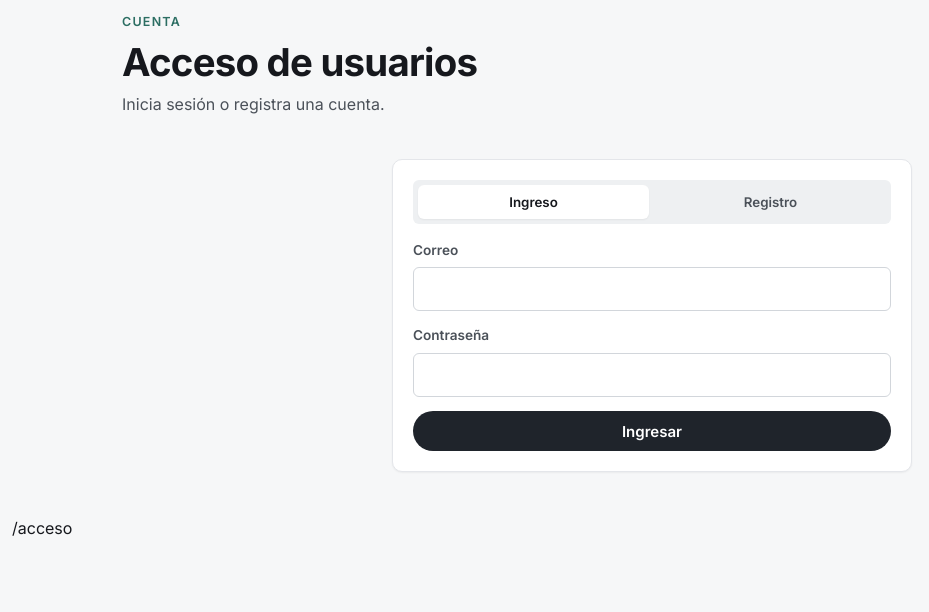
Test case: AuthPage › muestra error cuando el ingreso no retorna token
Type "admin@sanosysalvos.cl" into the field labelled "Correo".
click(652, 289); type("admin@sanosysalvos.cl")  # box [413,267,891,311]
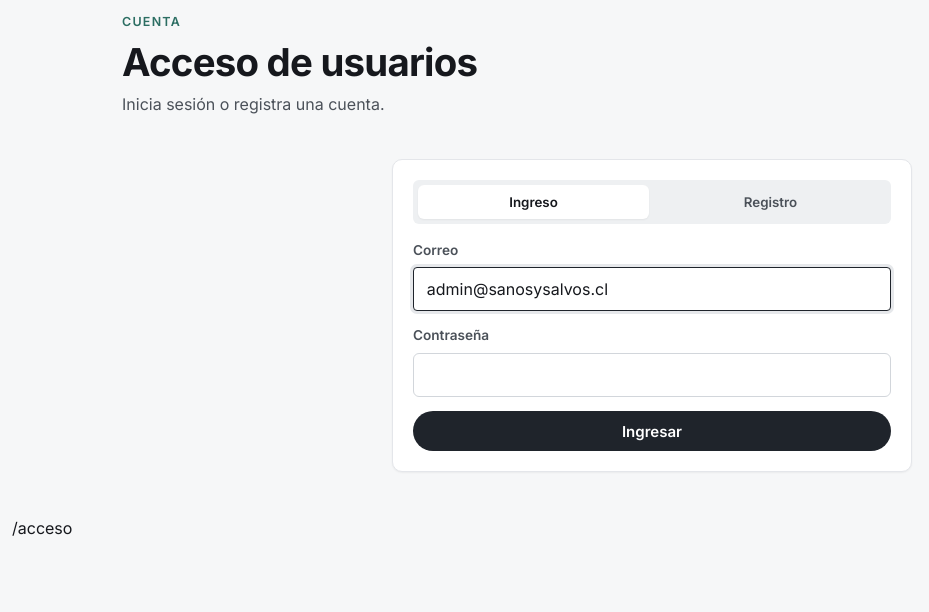
Type "admin123*" into the password field labelled "Contraseña".
click(652, 375); type("admin123*")  # box [413,353,891,397]
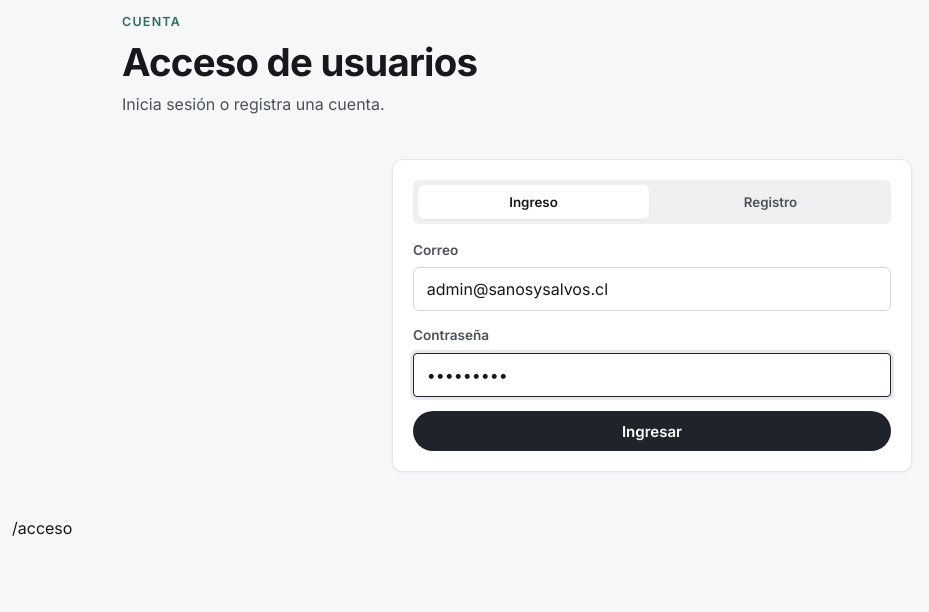
Click the button "Ingresar".
click(652, 431)  # box [413,411,891,451]
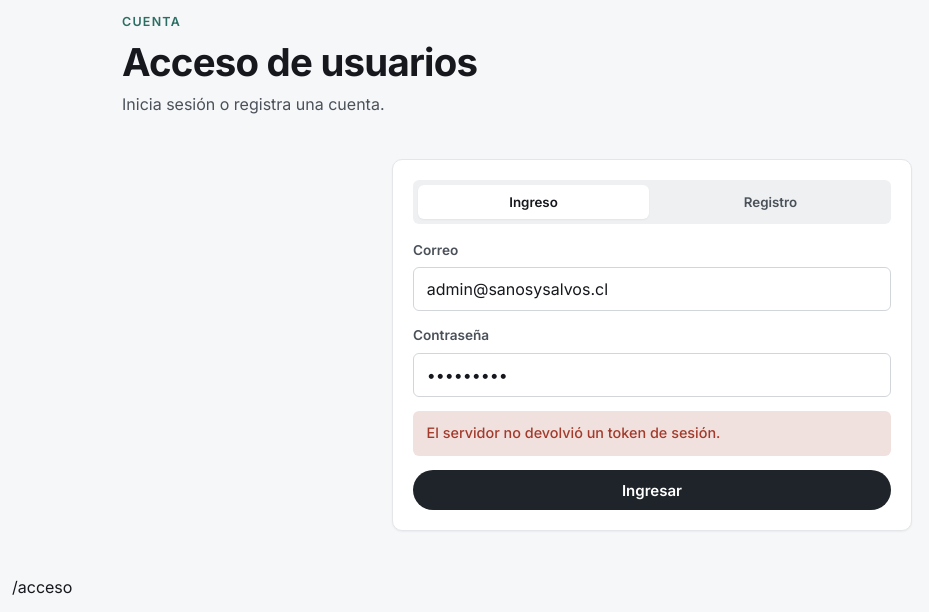
Result: the text "El servidor no devolvió un token de sesión." is shown at [413,411,891,456]
